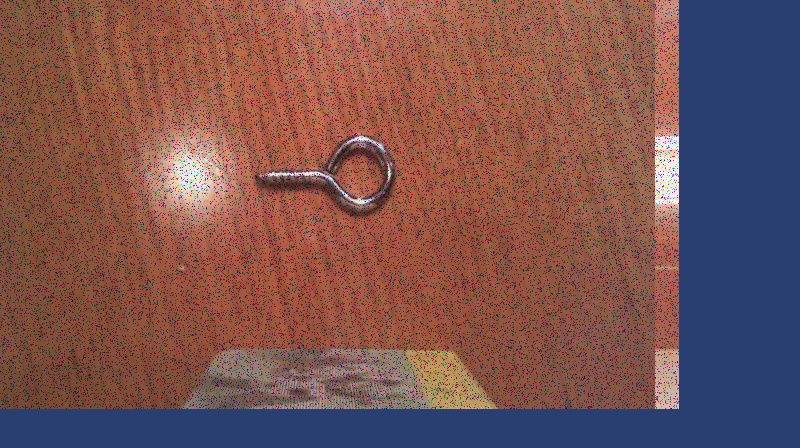O001: (252, 128, 401, 219)
